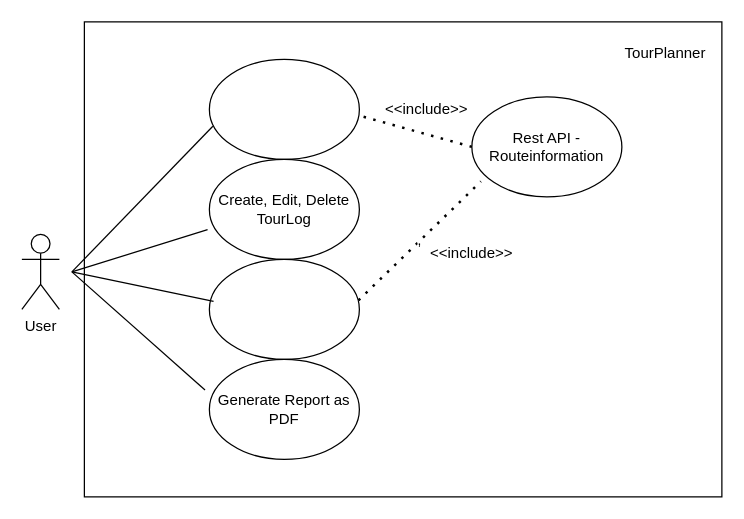
This 744x519 diagram has some shape labels left out. Here are the shapes that lost their labels. From the top down, the box of each, then its label:
(208, 58, 359, 159): Create, Edit, Delete Tour
(208, 258, 359, 359): Import/Export Tours
